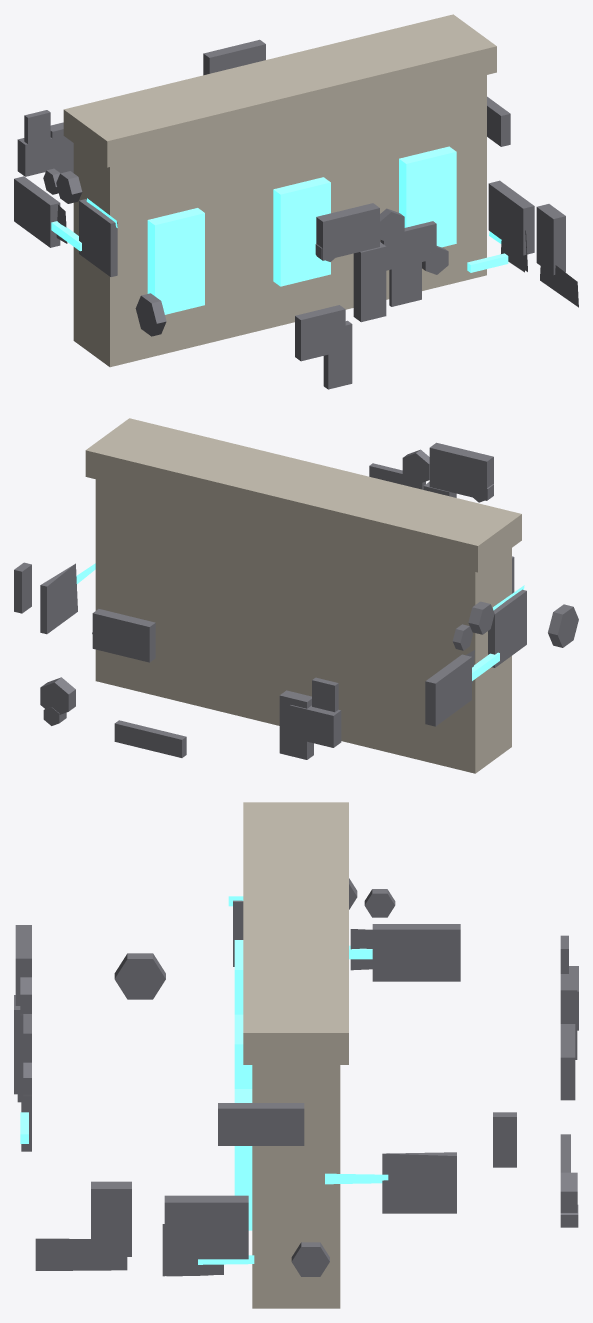
Rendered from alien_wall.glb.
The picture shows the model from 3 angles, top to bottom: view 1: azimuth 30°, elevation 25°; view 2: azimuth 150°, elevation 25°; view 3: azimuth 270°, elevation 25°; orthographic projection. The views are drawn at different scales.
Visible parts, largest first — view 1: alien_wall; view 2: alien_wall; view 3: alien_wall.
Part boxes in pixels (bbox=[...]): alien_wall: bbox=[14, 14, 578, 389]; alien_wall: bbox=[14, 418, 578, 773]; alien_wall: bbox=[14, 802, 578, 1308].
Size of the model in its own units: 6.37 by 3.5 by 6.41.
